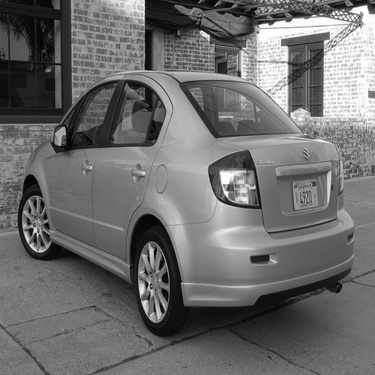car: (12, 47, 372, 332)
